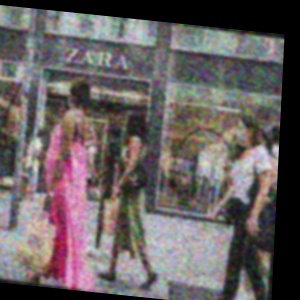zara: (96, 29, 175, 66)
